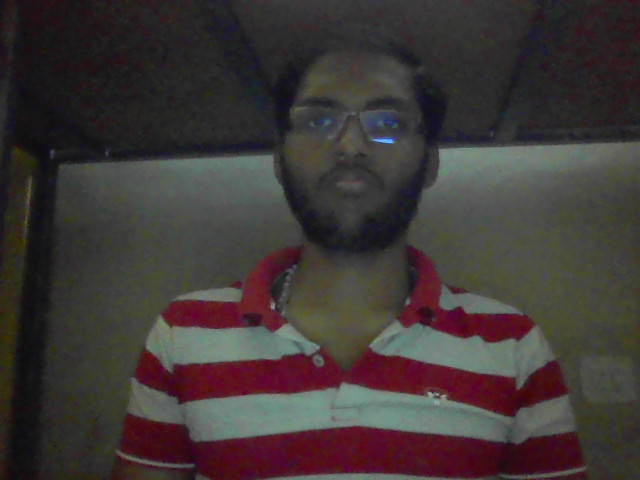Neutral: (233, 37, 499, 381)
